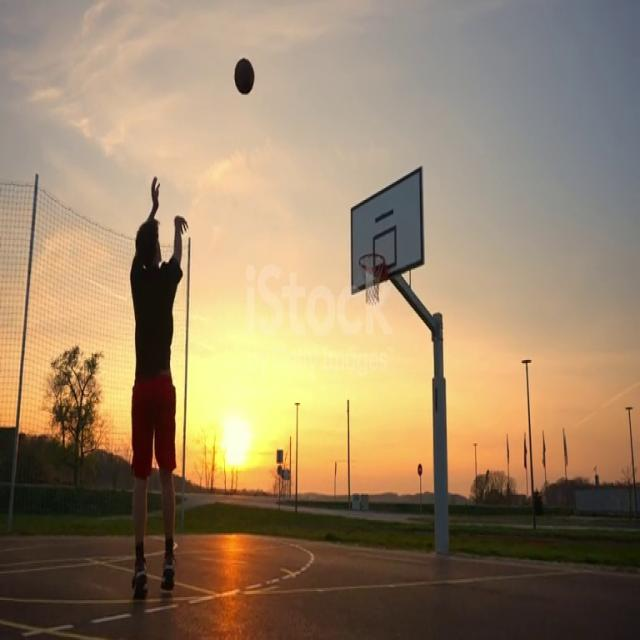ball: (234, 56, 256, 95)
